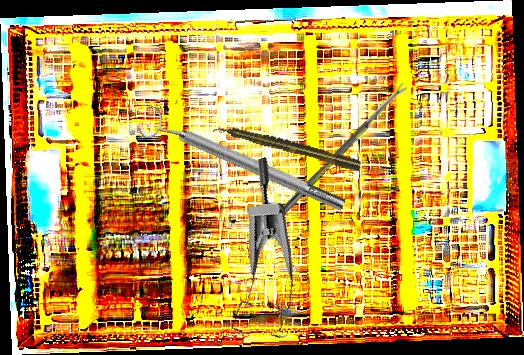Fixation Ring: (136, 102, 350, 223)
Handpiece: (212, 120, 362, 173)
Speculum: (183, 155, 324, 353)
Surgical Spoon: (279, 82, 409, 216)
